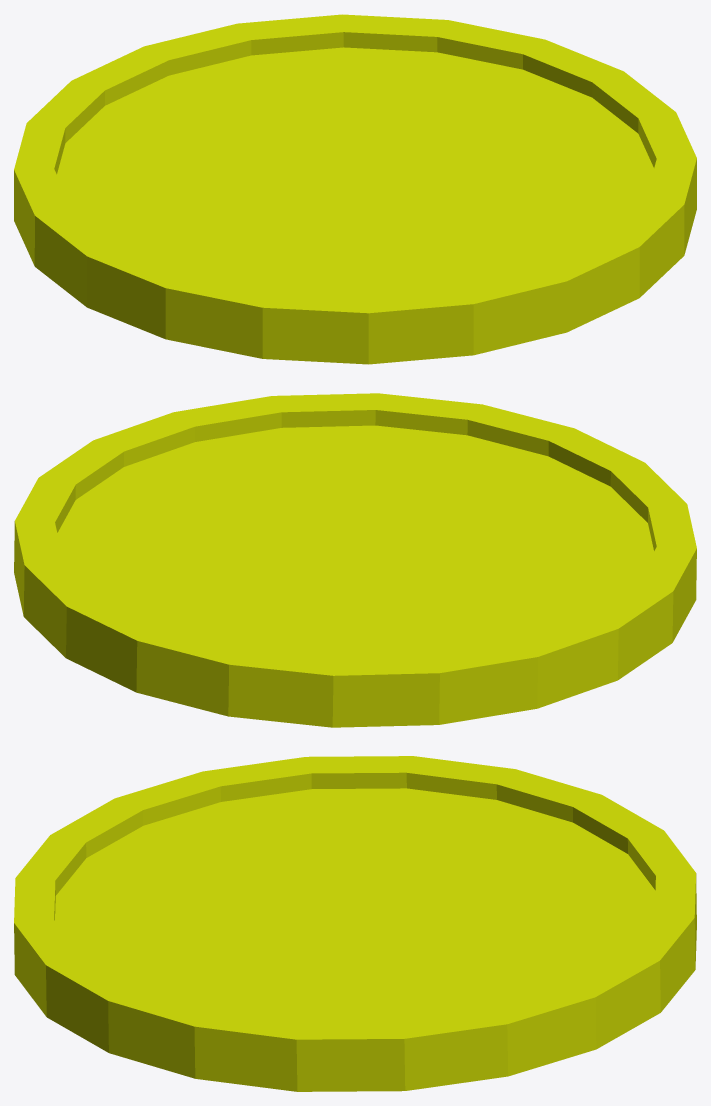
Rendered from dogeCoin.glb.
3 renders of one model, top to bottom at view 1: azimuth 30°, elevation 25°; view 2: azimuth 150°, elevation 25°; view 3: azimuth 270°, elevation 25°, orthographic.
Visible parts, largest first — view 1: Cylinder; view 2: Cylinder; view 3: Cylinder.
Part boxes in pixels (x1,y1,x2,y2): Cylinder: (14, 14, 696, 364); Cylinder: (14, 393, 696, 727); Cylinder: (14, 756, 696, 1091).
Bounding box in the file's own units: 5.94 × 0.5986 × 5.94.
